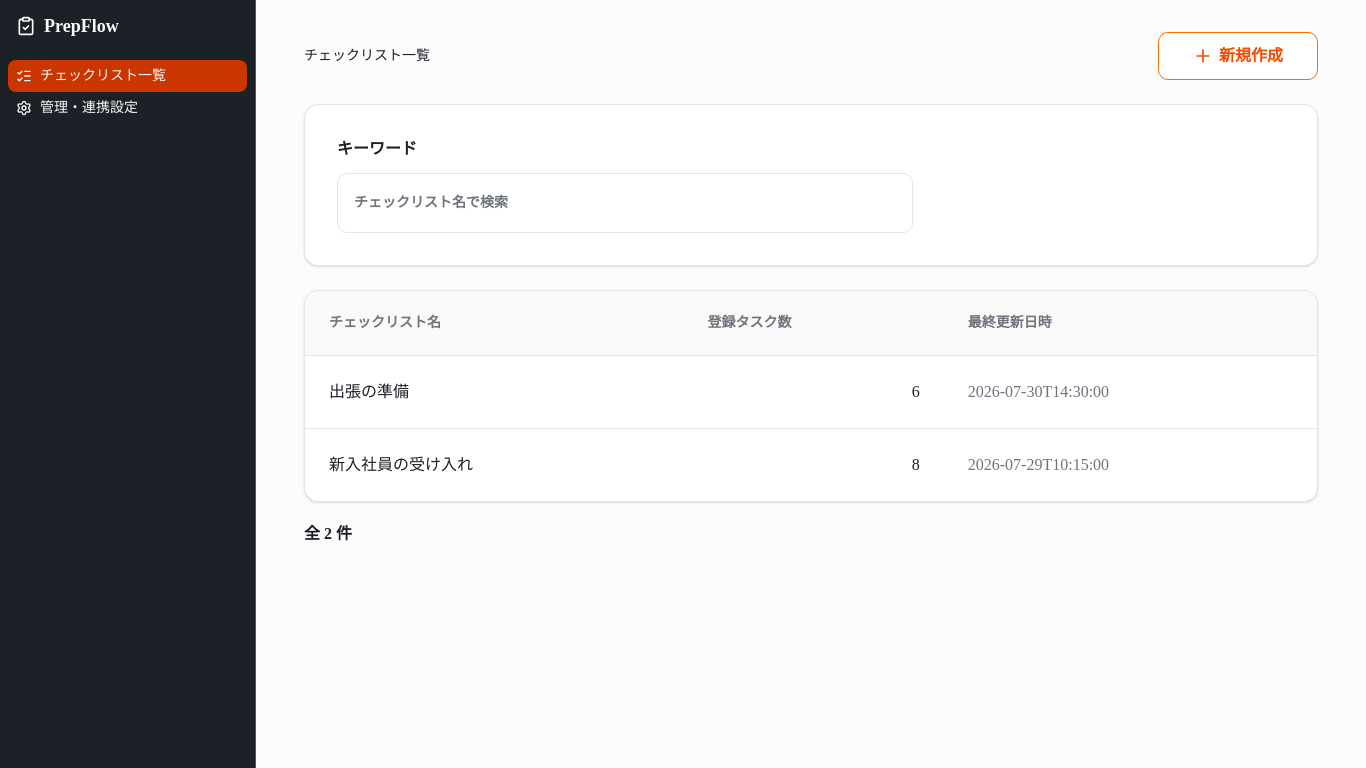
名前だけで部分一致検索する
The width and height of the screenshot is (1366, 768).
Type "新入社員" into the search field named "検索".
click(625, 203); type("新入社員")  # box 337,173 -> 913,233
Wait 300 ms
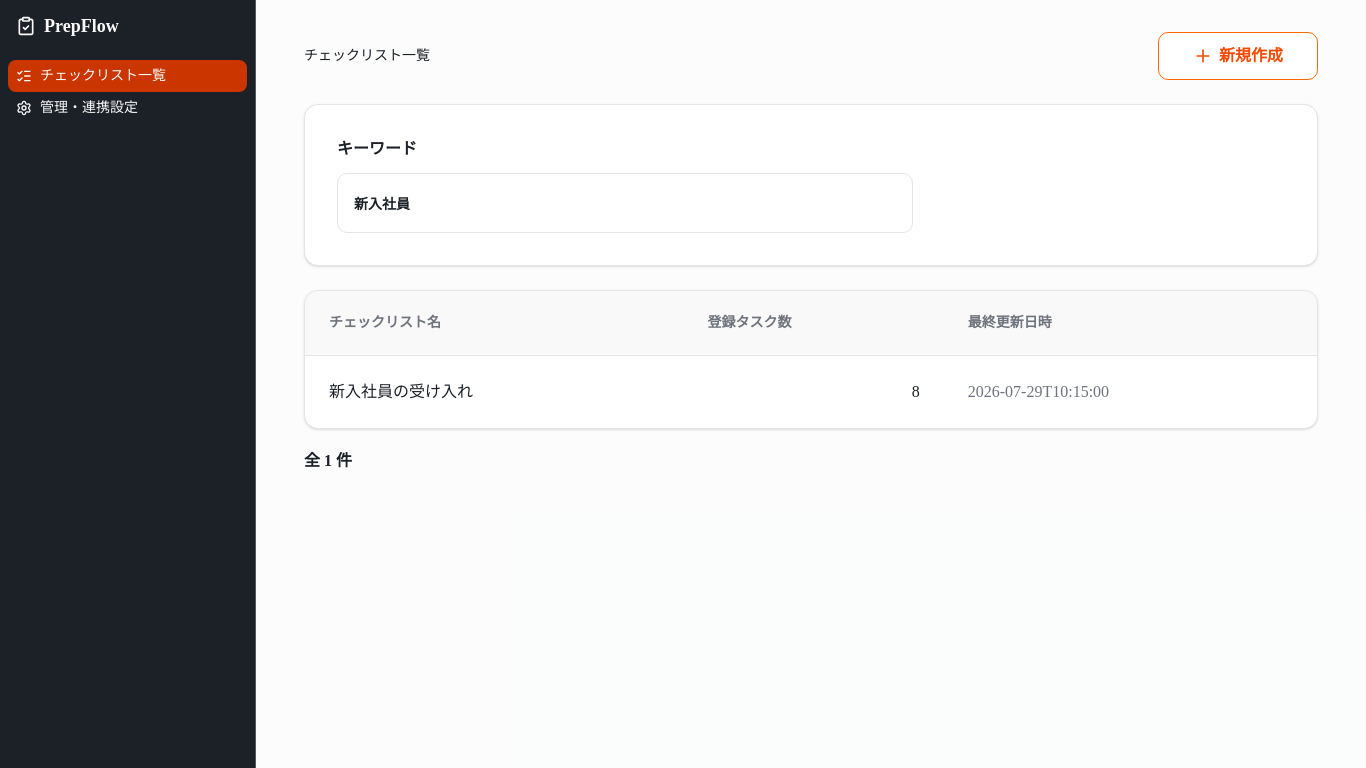
Expected: the link "新入社員の受け入れ" is shown, 329,382 -> 473,400
Now the link "出張の準備" is gone
Now the text "全 1 件" is shown, box 304,452 -> 352,468
